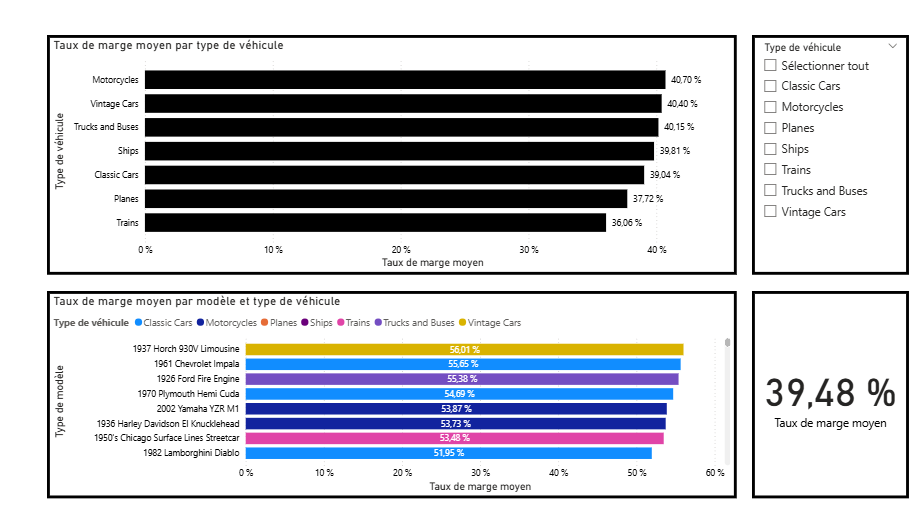

The dashboard page shown, as its layout file describes it:
{"tool":"powerbi","page":{"name":"Page 4","canvas":[1280,720],"ordinal":3},"visuals":[{"type":"barChart","title":"Taux de marge moyen par modèle et type de véhicule","fields":{"Category":["products.productName"],"Series":["products.productLine"],"Y":["products.Marge Moyenne Observée"]},"box":[68.3,406.7,958.3,288.3],"z":0},{"type":"clusteredBarChart","title":"Taux de marge moyen par type de véhicule","fields":{"Category":["products.productLine"],"Y":["products.Marge Moyenne Observée"]},"box":[68.3,51.7,958.3,333.3],"z":1000},{"type":"slicer","fields":{"Values":["products.productLine"]},"box":[1046.7,51.7,218.3,333.3],"z":2001},{"type":"card","fields":{"Values":["products.Marge Moyenne Observée"]},"box":[1046.7,406.7,218.3,288.3],"z":2002}]}

Visuals, with their boxes in screenshot pixels (x1, y1, x2, y2), scaled from the page's 1280x720 canvas onto the 918x511 screenshot:
"Taux de marge moyen par modèle et type de véhicule" barChart: 49, 289, 736, 493
"Taux de marge moyen par type de véhicule" clusteredBarChart: 49, 37, 736, 273
slicer - products.productLine: 751, 37, 907, 273
card - products.Marge Moyenne Observée: 751, 289, 907, 493
